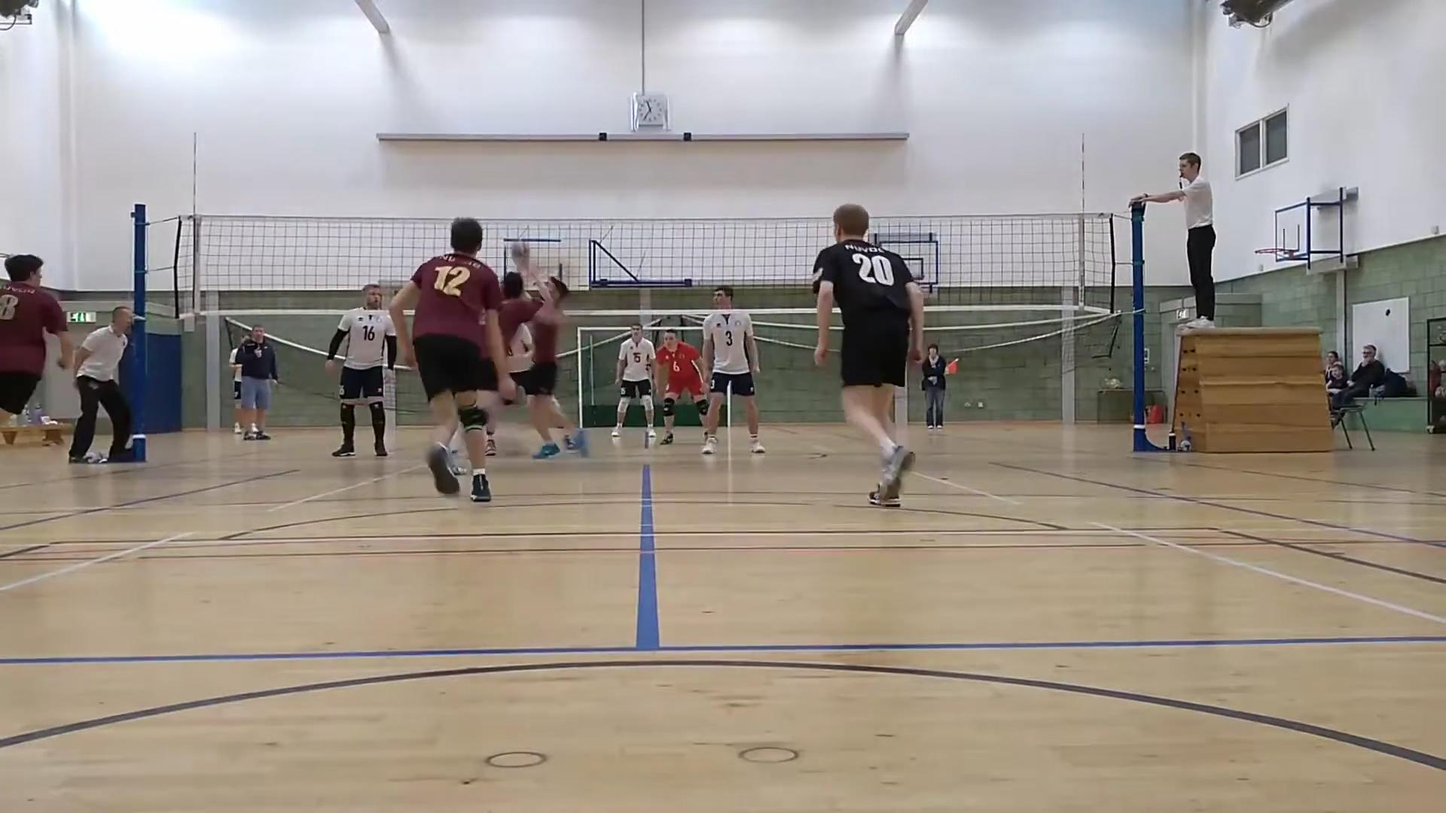alzata: (512, 242, 598, 456)
